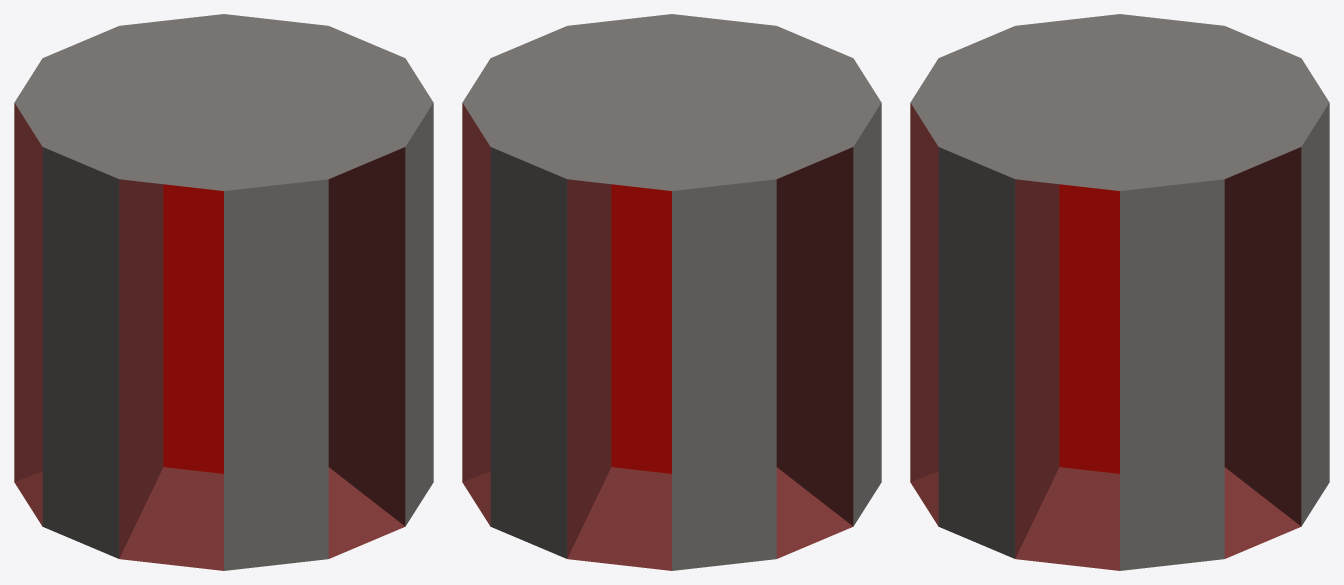
Rendered from powercore.fbx.
3 views of the same model, side by side, from view 1: azimuth 30°, elevation 25°; view 2: azimuth 150°, elevation 25°; view 3: azimuth 270°, elevation 25° (orthographic).
Visible parts, largest first — view 1: Cylinder; view 2: Cylinder; view 3: Cylinder.
Part boxes in pixels (left/top/right/bottom): Cylinder: left=14, top=14, right=433, bottom=570; Cylinder: left=462, top=14, right=881, bottom=570; Cylinder: left=910, top=14, right=1329, bottom=570.
Size of the model in its own units: 200 by 200 by 200.
